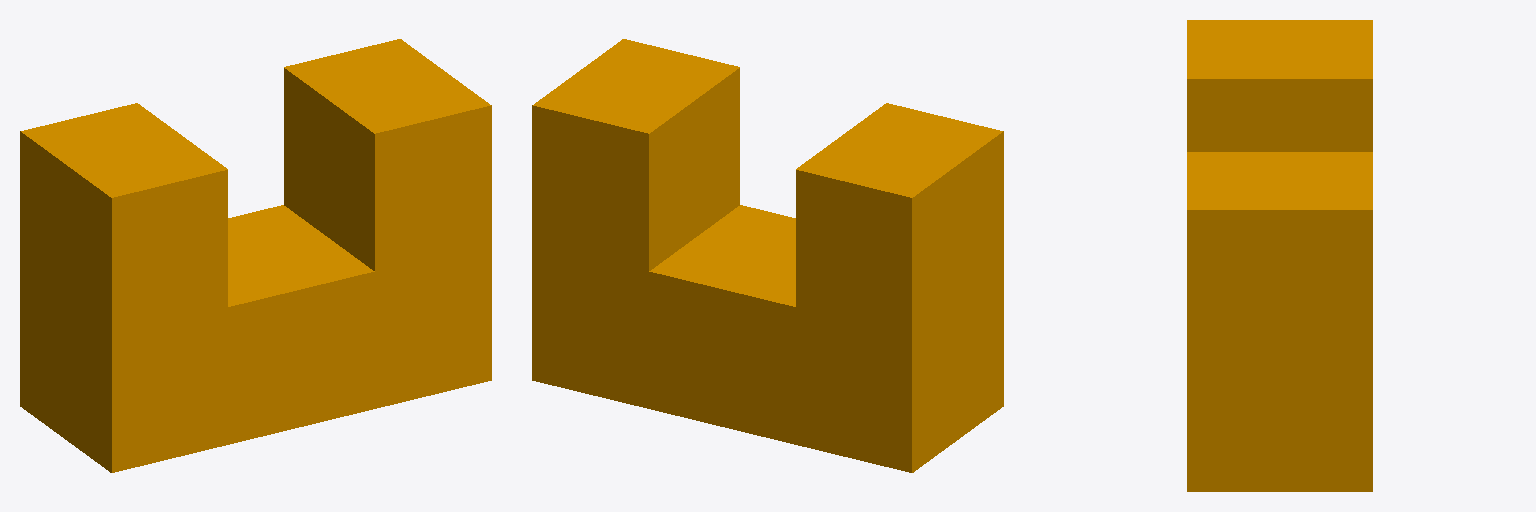
URDF robot description (box):
<?xml version="1.0" encoding="utf-8"?>
<!-- =================================================================================== -->
<!-- |    This document was autogenerated by xacro from cube.urdf.xacro               | -->
<!-- |    EDITING THIS FILE BY HAND IS NOT RECOMMENDED                                 | -->
<!-- =================================================================================== -->
<robot name="box">
  <link name="object_link">
    <collision>
      <origin rpy="0 0 0" xyz="0 0 0" />
      <geometry>
        <mesh filename="package://grf_transport/models/u_shaped_prism/u_shaped_prism.stl" scale="1.0 1.0 1.0" />
      </geometry>
    </collision>
    <visual>
      <origin rpy="0 0 0" xyz="0 0 0" />
      <geometry>
        <mesh filename="package://grf_transport/models/u_shaped_prism/u_shaped_prism.stl" scale="1.0 1.0 1.0" />
      </geometry>
    </visual>
    <inertial>
      <origin xyz="0 0 0" rpy="0 0 0" />
      <mass value="0.3" />
      <inertia ixx="0.001700" ixy="0.0" ixz="0.0" iyy="0.001700" iyz="0.0" izz="0.001700" />
    </inertial>
  </link>
  <gazebo reference="object_link">
    <!-- <static>true</static> -->
    <!-- <gravity>false</gravity> -->
    <selfCollide>true</selfCollide>
    <material>Gazebo/Orange</material>
    <mu1>0.95</mu1>
    <mu2>0.85</mu2>
    <laserRetro>1.0</laserRetro>
  </gazebo>
</robot>

--- Facts derived from the render (not from the file) ---
Views: 3 orthographic renders of the robot side by side, from view 1: azimuth 30°, elevation 25°; view 2: azimuth 150°, elevation 25°; view 3: azimuth 270°, elevation 25°.
Model box with 1 links and 0 joints (none), rooted at object_link, posed every joint at zero.
Links seen in each view (by area): view 1: object_link; view 2: object_link; view 3: object_link.
Boxes of the visible links, x1,y1,x2,y2 form: object_link: [20, 39, 491, 472]; object_link: [532, 39, 1003, 472]; object_link: [1187, 20, 1372, 491].
Bounding box of the posed robot: 650 × 270 × 450 m (x, y, z).
1 mesh visuals loaded from 1 distinct referenced files (1 binary STL).